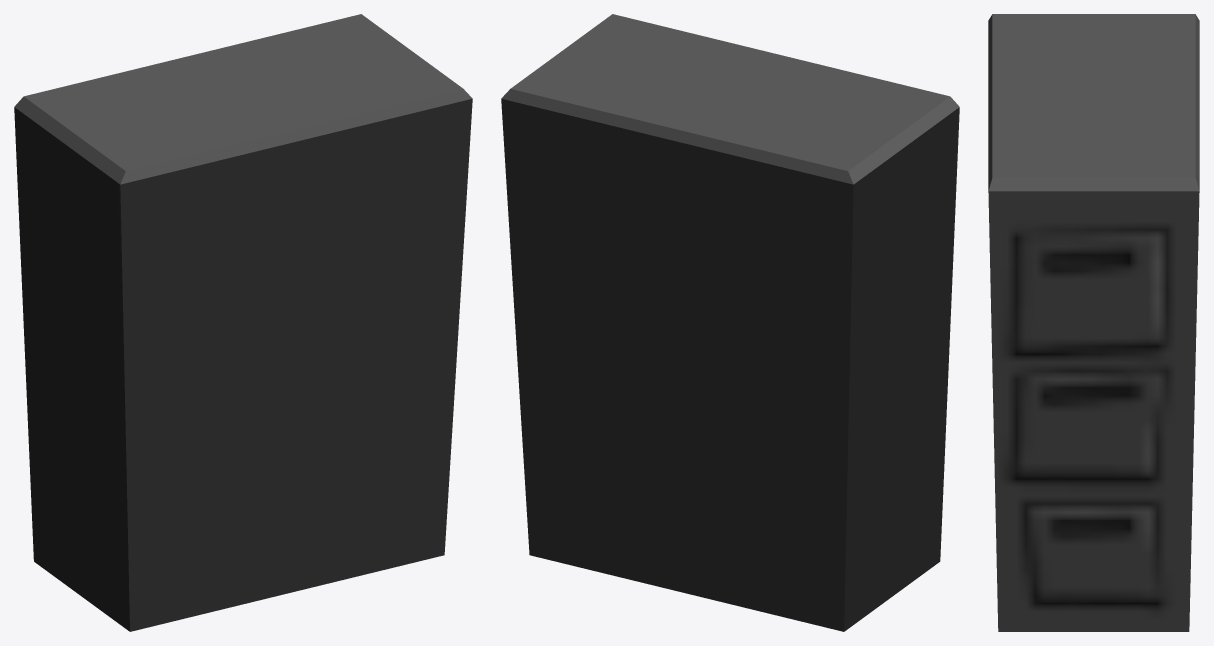
Rendered from File_Cabinet.fbx.
3 renders of one model, left to right at view 1: azimuth 30°, elevation 25°; view 2: azimuth 150°, elevation 25°; view 3: azimuth 270°, elevation 25°, orthographic.
Visible parts, largest first — view 1: FileCabinet; view 2: FileCabinet; view 3: FileCabinet.
Part boxes in pixels (left/top/right/bottom): FileCabinet: left=14, top=14, right=472, bottom=631; FileCabinet: left=501, top=14, right=959, bottom=631; FileCabinet: left=988, top=14, right=1199, bottom=631.
Size of the model in its own units: 1.4 by 1.76 by 0.7289.
